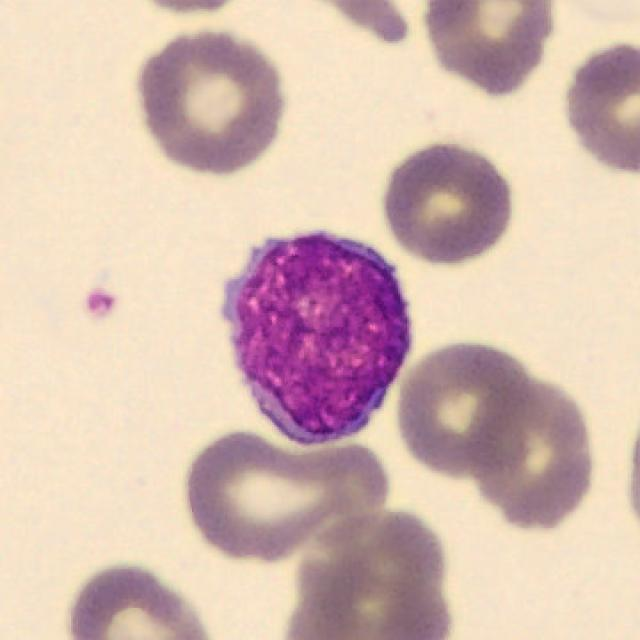Linfocito: (224, 231, 411, 448)
